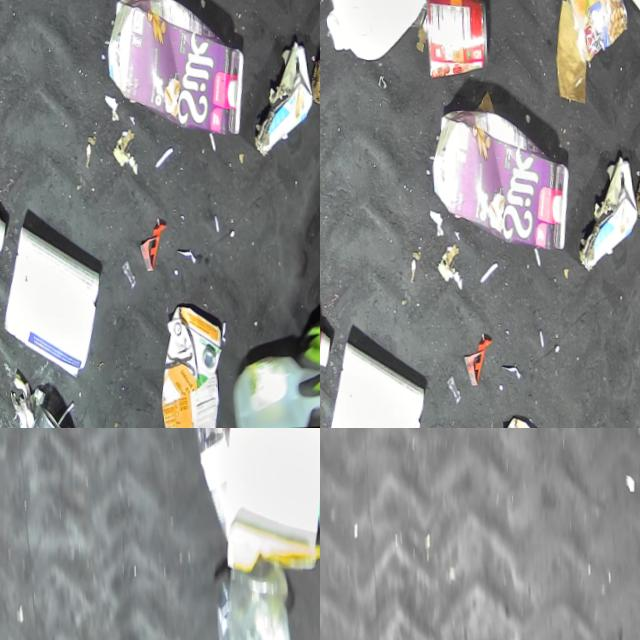can: (205, 558, 310, 640), (421, 0, 490, 82), (559, 0, 629, 66), (2, 392, 81, 428)
milk_jug: (223, 346, 320, 428), (320, 0, 438, 65)
non_white_jug: (427, 102, 571, 259)
